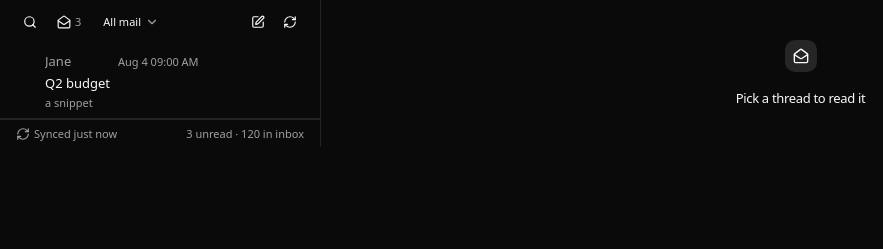
Test: ⌘F opens search when the pane has focus
Click the button "Jane Q2 budget a snippet Aug 4 09:00 AM" at (78, 83), box [22,44,320,118]
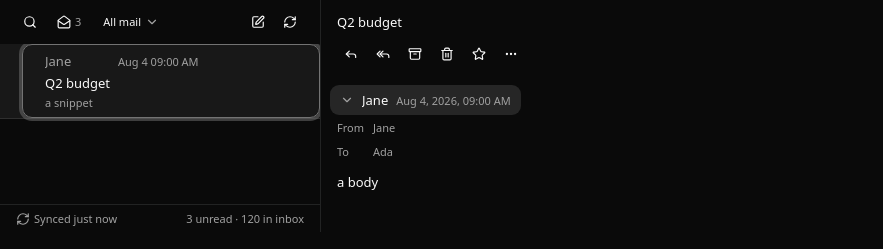
Type keys "{Meta>}f{/Meta}"
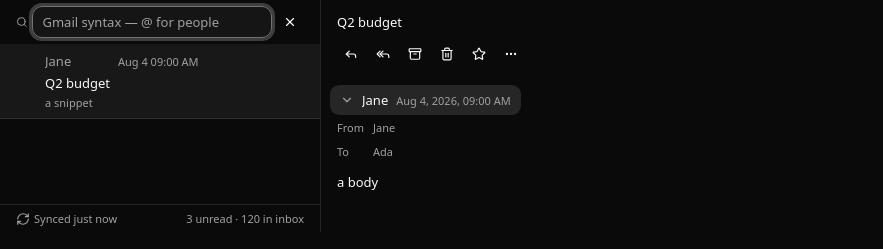
expect the dropdown named "search mail" is shown: met, box [32,6,272,38]
